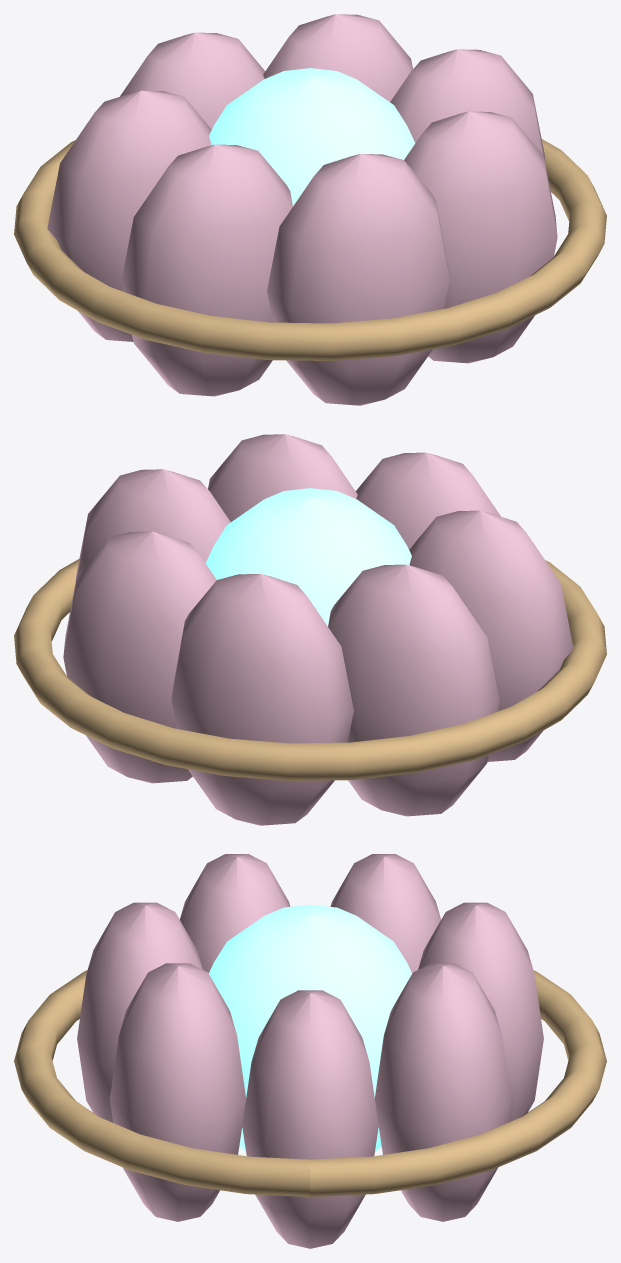
File: pick_rose_petals.glb
The picture shows the model from 3 angles, top to bottom: view 1: azimuth 30°, elevation 25°; view 2: azimuth 150°, elevation 25°; view 3: azimuth 270°, elevation 25°; orthographic projection.
Parts seen in each view (by area): view 1: PICK_rose_petals_petal_5, PICK_rose_petals_seed_ring, PICK_rose_petals_petal_4, PICK_rose_petals_petal_6, PICK_rose_petals_petal_3, PICK_rose_petals_lumen, PICK_rose_petals_petal_0, PICK_rose_petals_petal_2, PICK_rose_petals_petal_1; view 2: PICK_rose_petals_petal_2, PICK_rose_petals_seed_ring, PICK_rose_petals_petal_3, PICK_rose_petals_petal_1, PICK_rose_petals_petal_4, PICK_rose_petals_lumen, PICK_rose_petals_petal_0, PICK_rose_petals_petal_5, PICK_rose_petals_petal_6; view 3: PICK_rose_petals_seed_ring, PICK_rose_petals_petal_1, PICK_rose_petals_petal_6, PICK_rose_petals_petal_0, PICK_rose_petals_lumen, PICK_rose_petals_petal_2, PICK_rose_petals_petal_5, PICK_rose_petals_petal_3, PICK_rose_petals_petal_4.
Part boxes in pixels (x1=…): PICK_rose_petals_petal_5: x1=267, y1=154, x2=449, y2=405; PICK_rose_petals_seed_ring: x1=14, y1=139, x2=606, y2=360; PICK_rose_petals_petal_4: x1=121, y1=144, x2=292, y2=396; PICK_rose_petals_petal_6: x1=404, y1=111, x2=557, y2=363; PICK_rose_petals_petal_3: x1=47, y1=90, x2=211, y2=341; PICK_rose_petals_lumen: x1=209, y1=68, x2=415, y2=206; PICK_rose_petals_petal_0: x1=390, y1=49, x2=545, y2=161; PICK_rose_petals_petal_2: x1=120, y1=32, x2=265, y2=129; PICK_rose_petals_petal_1: x1=263, y1=14, x2=412, y2=101; PICK_rose_petals_petal_2: x1=171, y1=574, x2=353, y2=825; PICK_rose_petals_seed_ring: x1=14, y1=559, x2=606, y2=780; PICK_rose_petals_petal_3: x1=328, y1=564, x2=499, y2=816; PICK_rose_petals_petal_1: x1=63, y1=531, x2=216, y2=783; PICK_rose_petals_petal_4: x1=409, y1=510, x2=573, y2=761; PICK_rose_petals_lumen: x1=205, y1=488, x2=411, y2=626; PICK_rose_petals_petal_0: x1=75, y1=469, x2=230, y2=581; PICK_rose_petals_petal_5: x1=355, y1=452, x2=500, y2=549; PICK_rose_petals_petal_6: x1=208, y1=434, x2=357, y2=521; PICK_rose_petals_seed_ring: x1=14, y1=970, x2=606, y2=1196; PICK_rose_petals_petal_1: x1=374, y1=963, x2=511, y2=1221; PICK_rose_petals_petal_6: x1=109, y1=963, x2=246, y2=1221; PICK_rose_petals_petal_0: x1=242, y1=990, x2=378, y2=1248; PICK_rose_petals_lumen: x1=208, y1=904, x2=412, y2=1151; PICK_rose_petals_petal_2: x1=418, y1=902, x2=543, y2=1122; PICK_rose_petals_petal_5: x1=77, y1=902, x2=202, y2=1122; PICK_rose_petals_petal_3: x1=330, y1=854, x2=440, y2=973; PICK_rose_petals_petal_4: x1=180, y1=854, x2=290, y2=973.
Bounding box in the file's own units: 0.77 × 0.37 × 0.77.
